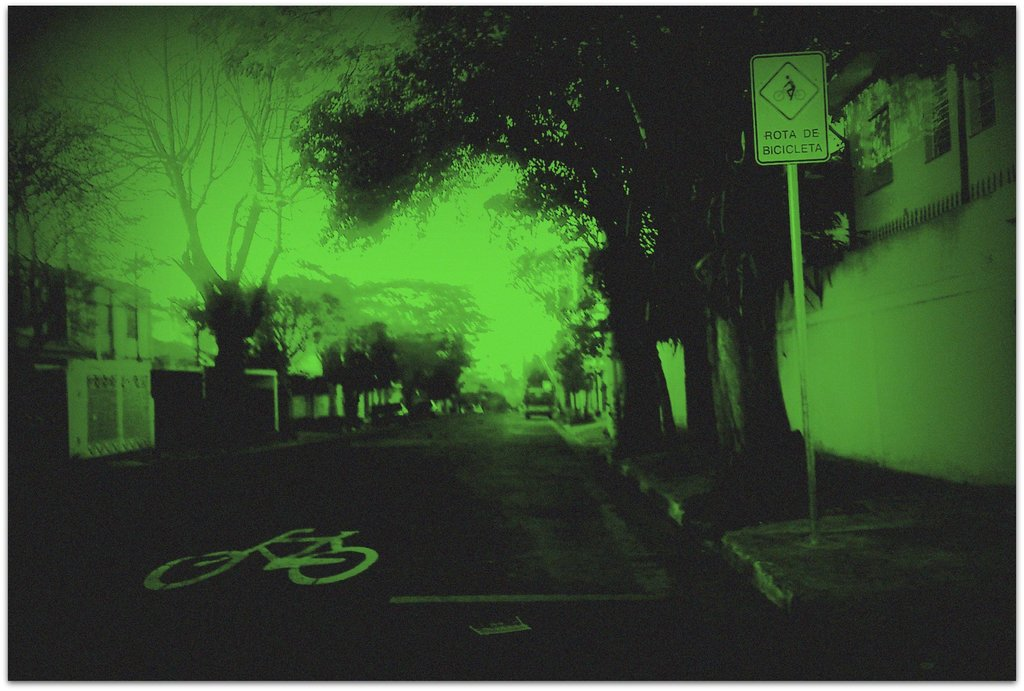Tree: (393, 0, 1022, 498), (291, 39, 661, 452), (72, 3, 377, 451), (243, 271, 488, 429), (0, 87, 131, 354)
